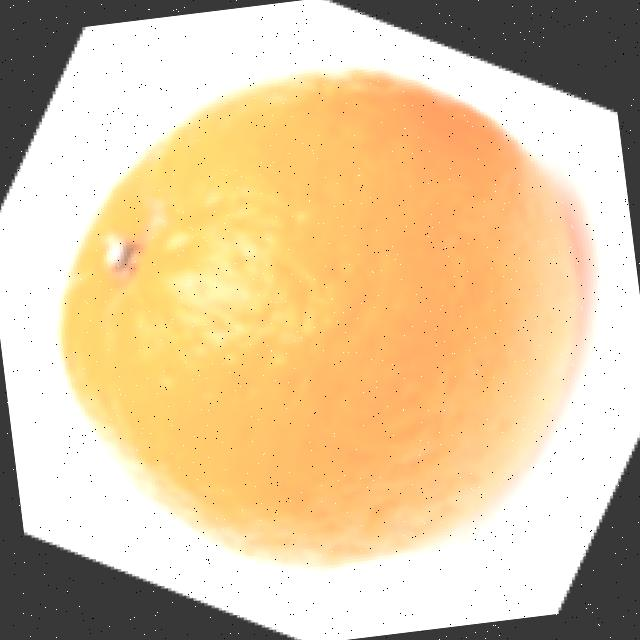orange: (19, 28, 612, 594)
